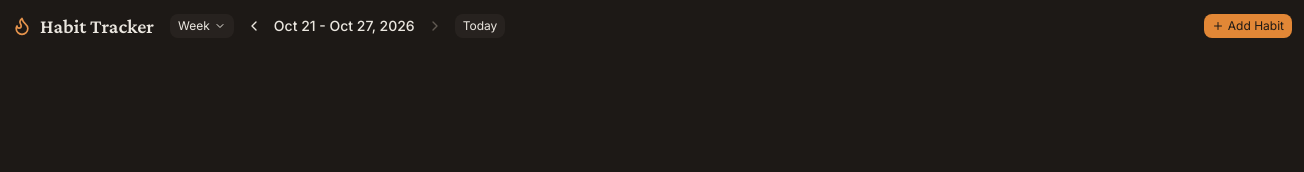
HabitTracker - Create Habit › shows inline input when add habit button is clicked
This screenshot has width=1304, height=172.
Click the button "Add Habit": (1248, 26) [1204,14,1292,38]
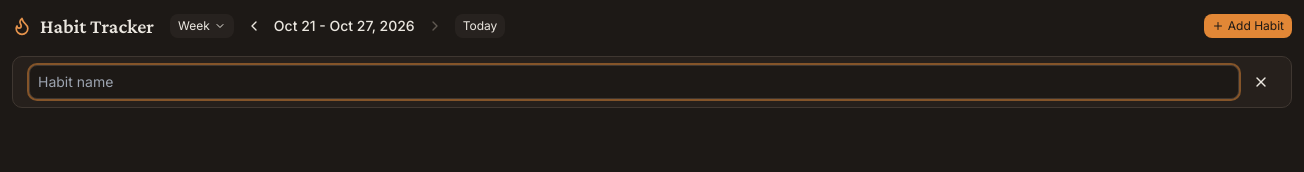
Result: the field with placeholder "Habit name" is shown at [29,65,1239,99]
